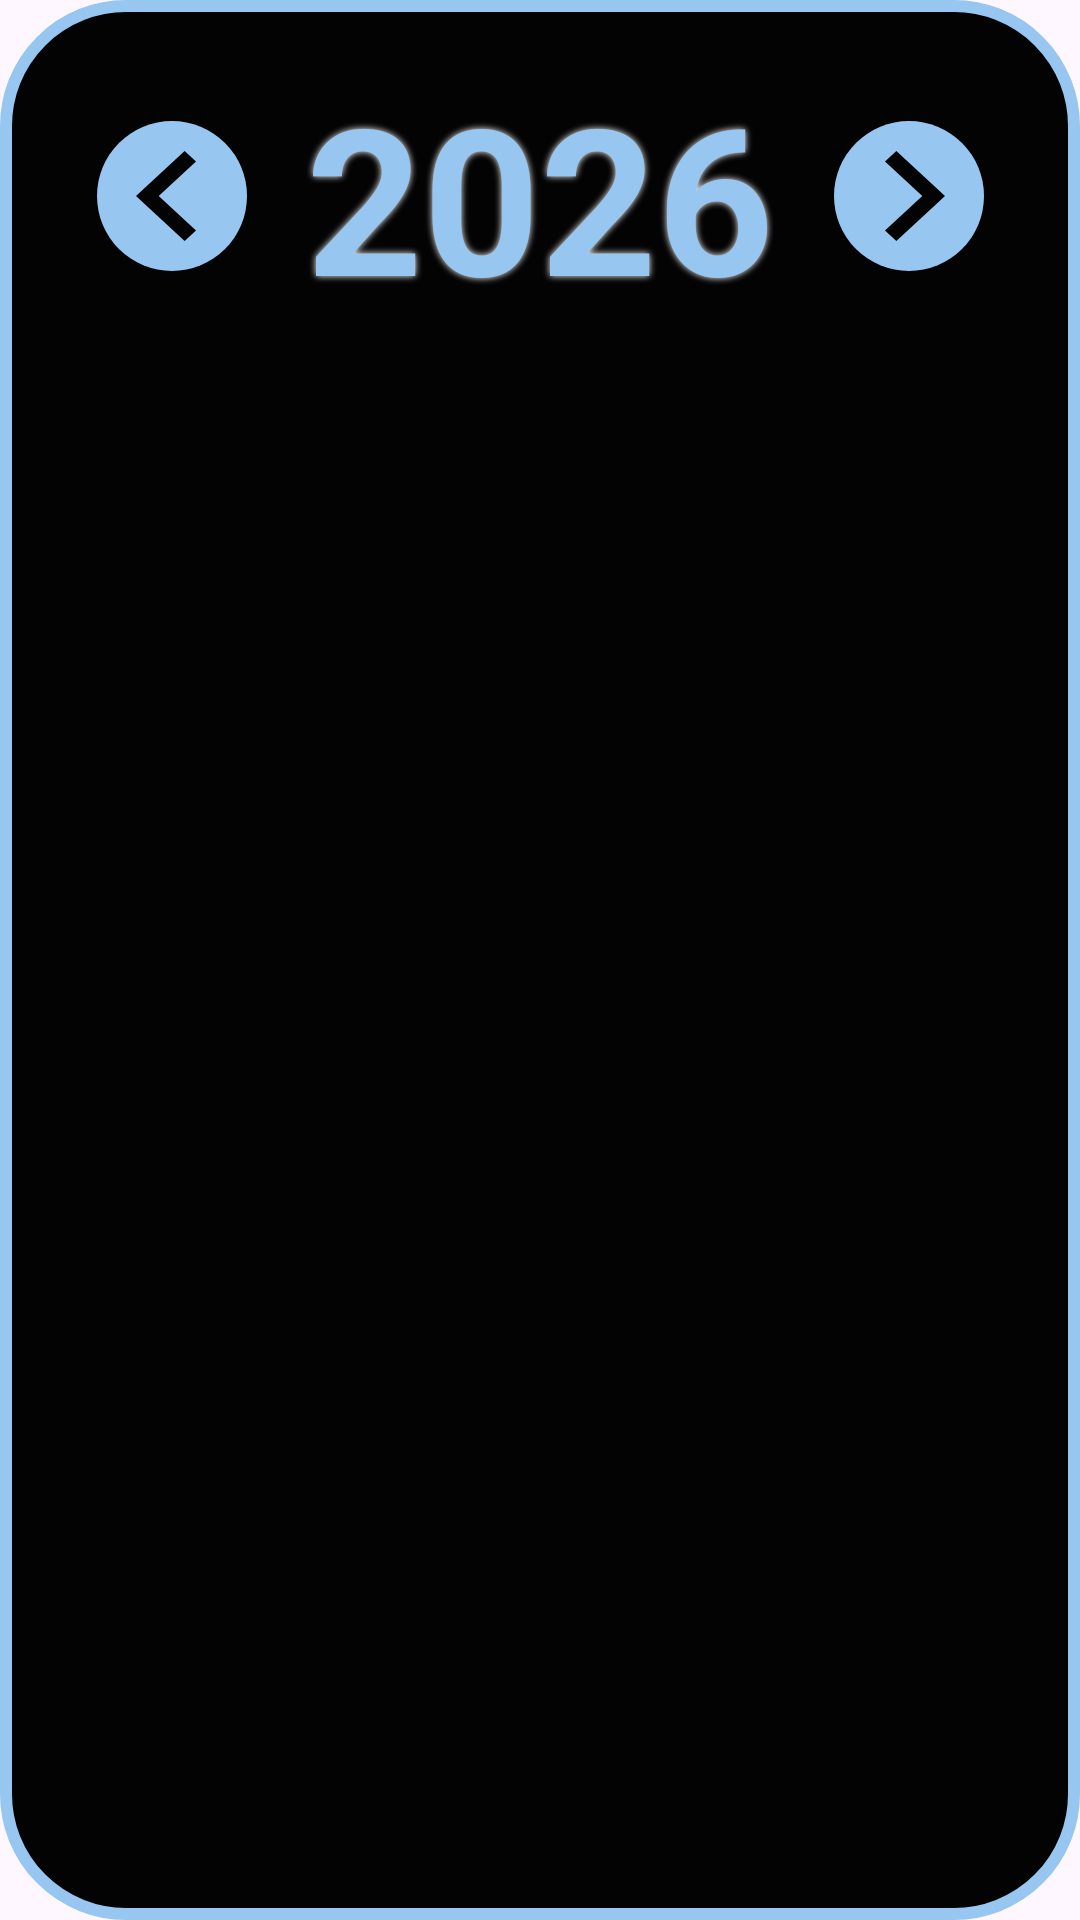

Where icons sit on this 1080px×1920px app screen, as (x1, y1, x2, y2):
Go to next year: (834, 121, 984, 271)
Go to previous year: (97, 121, 247, 271)
